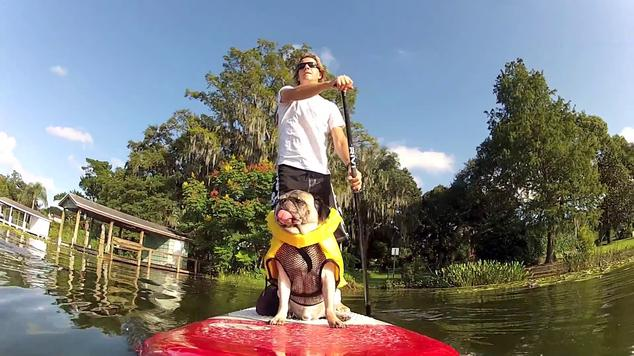crouch: (254, 26, 366, 278)
sit: (258, 170, 355, 345)
stay: (258, 170, 355, 345)
